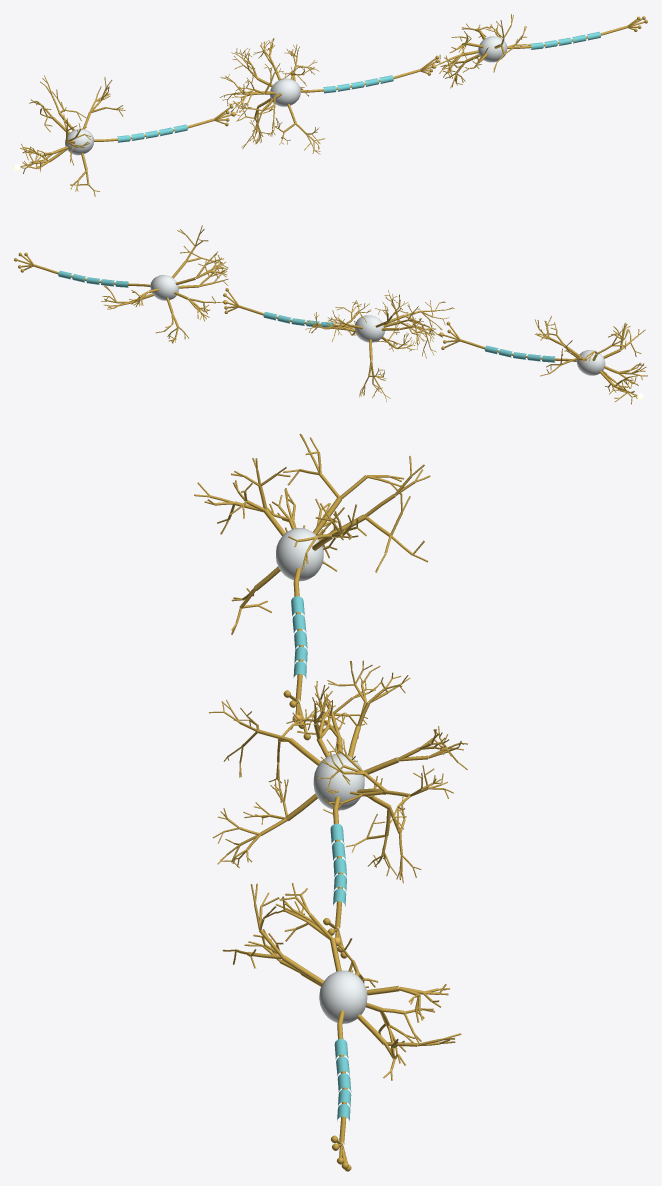
The model's file is impulso-nervoso.glb.
3 views of the same model, one above another, from view 1: azimuth 30°, elevation 25°; view 2: azimuth 150°, elevation 25°; view 3: azimuth 270°, elevation 25° (orthographic). The views are drawn at different scales.
Visible parts, largest first — view 1: mid_dendritos, pre_dendritos, pos_dendritos, mid_corpo_celular, pos_corpo_celular, pre_corpo_celular, mid_bainha_de_mielina, pre_bainha_de_mielina, pos_bainha_de_mielina, pre_axon, mid_axon, pos_axon; view 2: mid_dendritos, pos_dendritos, pre_dendritos, mid_corpo_celular, pos_corpo_celular, pre_corpo_celular, pos_bainha_de_mielina, pre_bainha_de_mielina, mid_bainha_de_mielina, pre_axon, pos_axon, mid_axon; view 3: mid_dendritos, pre_dendritos, pos_dendritos, pos_corpo_celular, mid_corpo_celular, pre_corpo_celular.
Part boxes in pixels (x1=…): mid_dendritos: x1=219, y1=38, x2=325, y2=154; pre_dendritos: x1=20, y1=75, x2=125, y2=196; pos_dendritos: x1=436, y1=14, x2=531, y2=88; mid_corpo_celular: x1=270, y1=78, x2=300, y2=106; pos_corpo_celular: x1=478, y1=36, x2=507, y2=62; pre_corpo_celular: x1=65, y1=129, x2=94, y2=155; mid_bainha_de_mielina: x1=323, y1=75, x2=393, y2=93; pre_bainha_de_mielina: x1=117, y1=124, x2=187, y2=142; pos_bainha_de_mielina: x1=530, y1=32, x2=600, y2=49; pre_axon: x1=94, y1=104, x2=233, y2=141; mid_axon: x1=301, y1=55, x2=439, y2=92; pos_axon: x1=507, y1=16, x2=647, y2=48; mid_dendritos: x1=305, y1=290, x2=454, y2=401; pos_dendritos: x1=101, y1=225, x2=228, y2=343; pre_dendritos: x1=535, y1=316, x2=647, y2=404; mid_corpo_celular: x1=354, y1=315, x2=384, y2=342; pos_corpo_celular: x1=150, y1=275, x2=178, y2=300; pre_corpo_celular: x1=576, y1=350, x2=605, y2=375; pos_bainha_de_mielina: x1=58, y1=270, x2=128, y2=287; pre_bainha_de_mielina: x1=484, y1=345, x2=555, y2=362; mid_bainha_de_mielina: x1=263, y1=312, x2=333, y2=327; pre_axon: x1=441, y1=321, x2=576, y2=361; pos_axon: x1=14, y1=252, x2=150, y2=286; mid_axon: x1=223, y1=288, x2=351, y2=327; mid_dendritos: x1=208, y1=660, x2=467, y2=883; pre_dendritos: x1=194, y1=433, x2=430, y2=634; pos_dendritos: x1=222, y1=883, x2=461, y2=1080; pos_corpo_celular: x1=319, y1=970, x2=367, y2=1023; mid_corpo_celular: x1=313, y1=753, x2=364, y2=810; pre_corpo_celular: x1=276, y1=528, x2=323, y2=581.
Bounding box in the file's own units: 0.8014 × 0.1382 × 0.1529.
